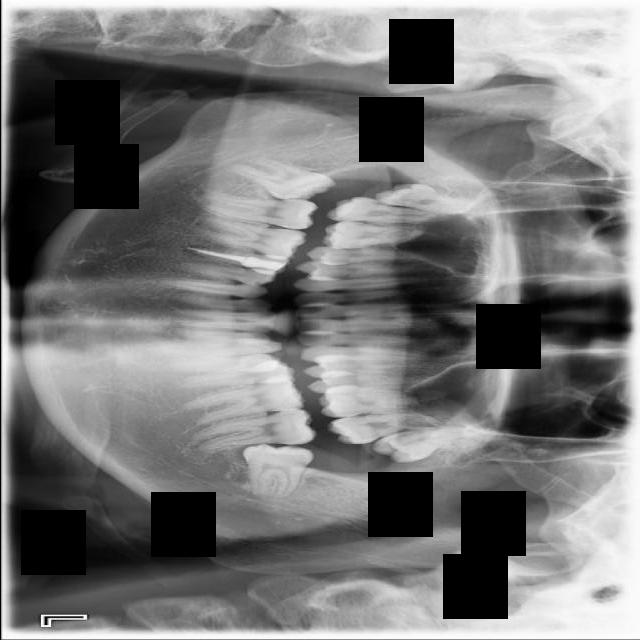3M ESPE Implant: (374, 176, 487, 223)
52: (246, 253, 289, 277)
73: (182, 245, 256, 269), (70, 609, 76, 613)
BioHorizons Implant: (325, 401, 453, 449)
BioLife Implant: (369, 422, 490, 467)
Biomet 3i Implant: (239, 442, 313, 502)
Blue Sky Bio Implant: (191, 406, 317, 452)
Caries: (326, 196, 458, 225)
Implant: (198, 193, 318, 230)
Keystone Dental Implant: (222, 148, 337, 214)
